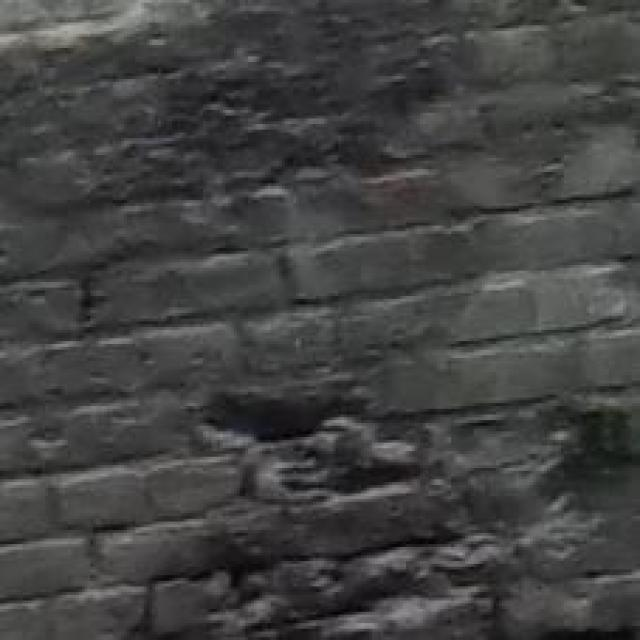Crack: (148, 319, 510, 640)
